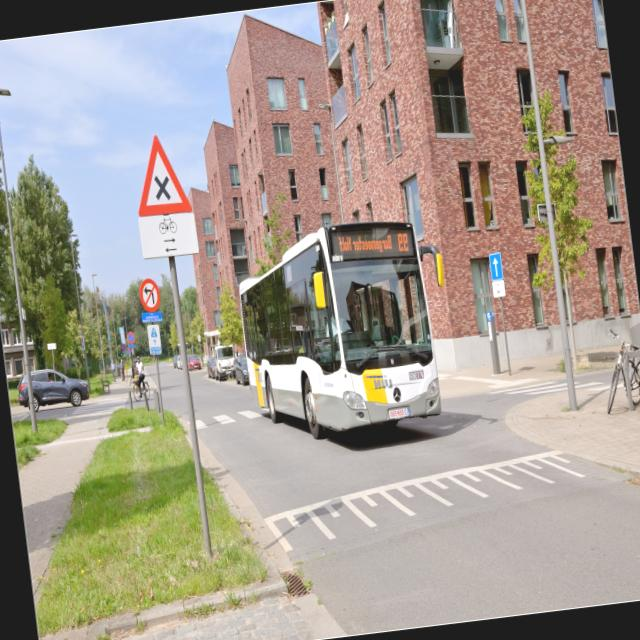bus-number: (396, 232, 410, 252)
